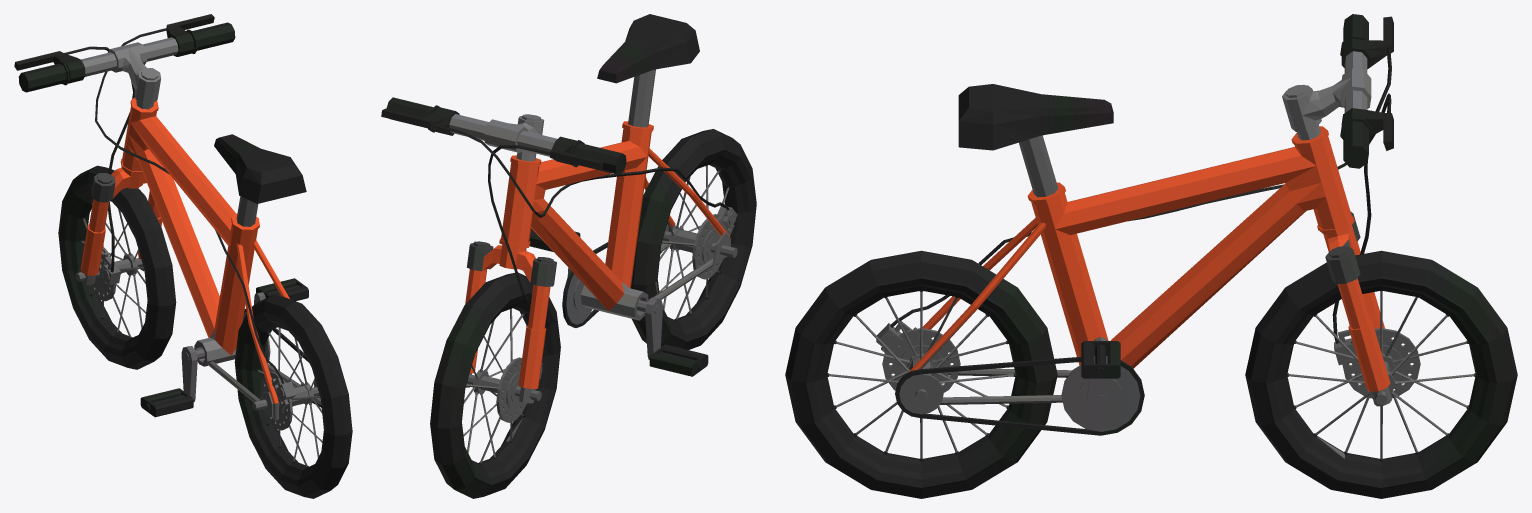
File: Bike.fbx
The picture shows the model from 3 angles, left to right: view 1: azimuth 30°, elevation 25°; view 2: azimuth 150°, elevation 25°; view 3: azimuth 270°, elevation 25°; orthographic projection. The views are drawn at different scales.
Parts seen in each view (by area): view 1: Bike; view 2: Bike; view 3: Bike.
Boxes of the visible parts, bbox=[...] form: Bike: bbox=[14, 14, 352, 498]; Bike: bbox=[381, 14, 756, 498]; Bike: bbox=[785, 14, 1517, 498].
Bounding box in the file's own units: 113 × 169 × 266.
